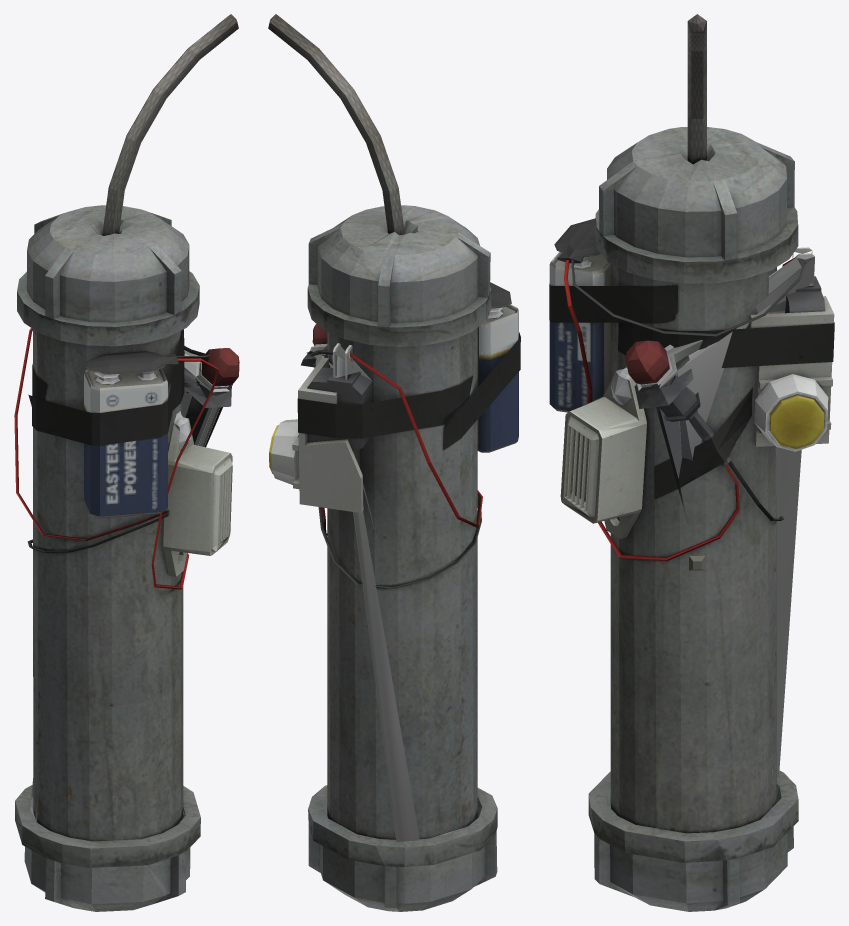
File: bomb.FBX
3 renders of one model, left to right at view 1: azimuth 30°, elevation 25°; view 2: azimuth 150°, elevation 25°; view 3: azimuth 270°, elevation 25°, orthographic. The views are drawn at different scales.
Parts seen in each view (by area): view 1: _null_; view 2: _null_; view 3: _null_.
Part boxes in pixels (x1,y1,x2,y2): _null_: (14, 14, 239, 911); _null_: (268, 14, 520, 911); _null_: (549, 14, 834, 911).
Size of the model in its own units: 3.23 by 12.27 by 3.39.
1 material, 1 textured.
